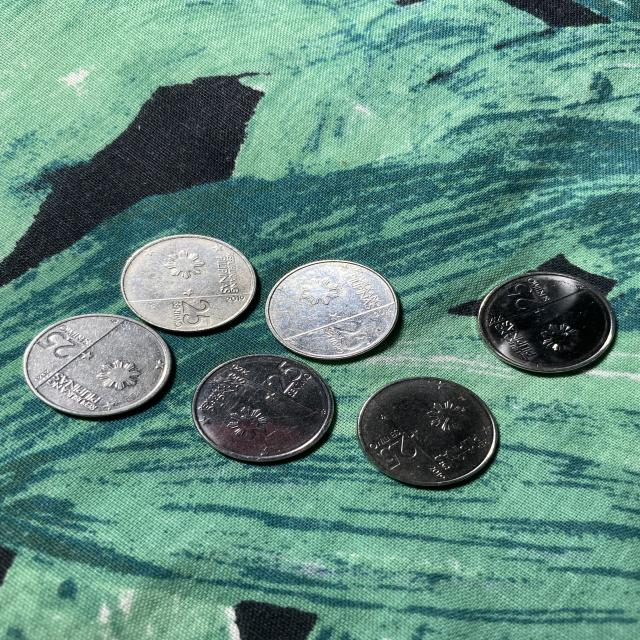25Cent_New_Front: (259, 362, 308, 394), (500, 280, 542, 316), (378, 435, 418, 468), (333, 321, 370, 354), (38, 331, 81, 358), (177, 300, 213, 328)
